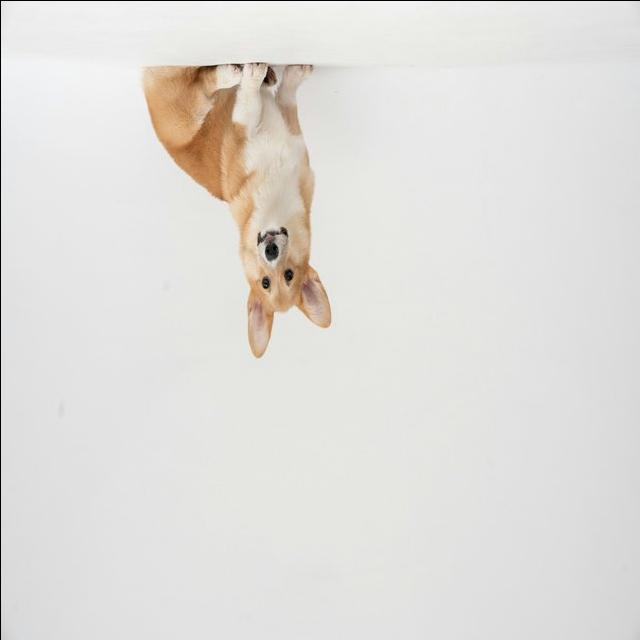corgi: (139, 62, 331, 359)
